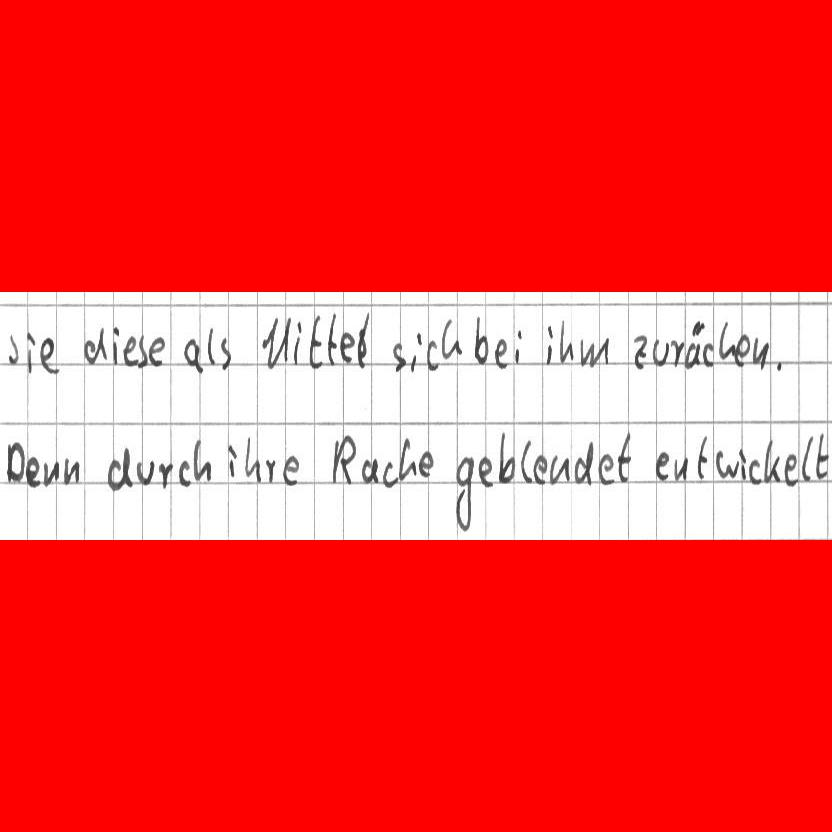Char: (260, 312, 293, 373), (453, 452, 476, 532), (331, 432, 358, 489), (106, 444, 133, 492), (353, 311, 374, 370), (578, 334, 611, 371), (573, 437, 595, 488), (307, 313, 326, 372), (191, 437, 214, 483), (439, 317, 464, 359), (498, 430, 517, 485), (82, 325, 108, 365), (243, 434, 263, 484), (4, 439, 25, 486), (617, 430, 635, 484), (396, 437, 417, 481), (762, 436, 781, 484), (39, 335, 61, 376), (687, 318, 704, 370), (472, 314, 489, 365), (181, 337, 205, 373), (717, 318, 736, 361), (714, 449, 740, 480), (559, 317, 576, 363), (281, 451, 302, 488), (630, 333, 650, 371), (548, 453, 571, 486), (597, 452, 617, 487), (358, 456, 381, 486), (290, 318, 304, 367), (519, 437, 533, 486), (815, 432, 829, 481), (390, 340, 409, 376), (733, 332, 752, 367), (147, 335, 167, 368), (477, 454, 497, 487), (696, 435, 710, 481), (650, 336, 670, 368), (134, 459, 156, 488), (801, 434, 814, 483), (23, 454, 41, 489), (753, 334, 770, 371), (5, 329, 22, 365), (653, 448, 671, 482), (409, 330, 423, 373), (338, 329, 355, 364), (219, 335, 234, 374), (25, 328, 37, 376), (157, 460, 175, 492), (381, 458, 399, 490), (42, 458, 61, 488), (121, 334, 138, 367), (226, 440, 240, 480), (783, 452, 799, 487), (327, 311, 337, 366), (205, 325, 218, 367), (418, 448, 435, 480), (531, 452, 548, 484), (672, 453, 690, 483), (494, 337, 510, 370), (669, 336, 685, 368), (425, 337, 440, 370), (63, 456, 80, 485), (701, 339, 716, 370), (176, 458, 192, 487), (736, 446, 748, 483), (545, 322, 555, 366), (264, 456, 279, 485), (137, 332, 148, 371), (747, 458, 762, 486), (111, 324, 120, 366), (514, 328, 524, 365), (774, 360, 786, 374)
